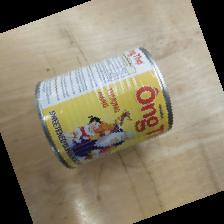Ong_tho: (34, 46, 175, 171)
